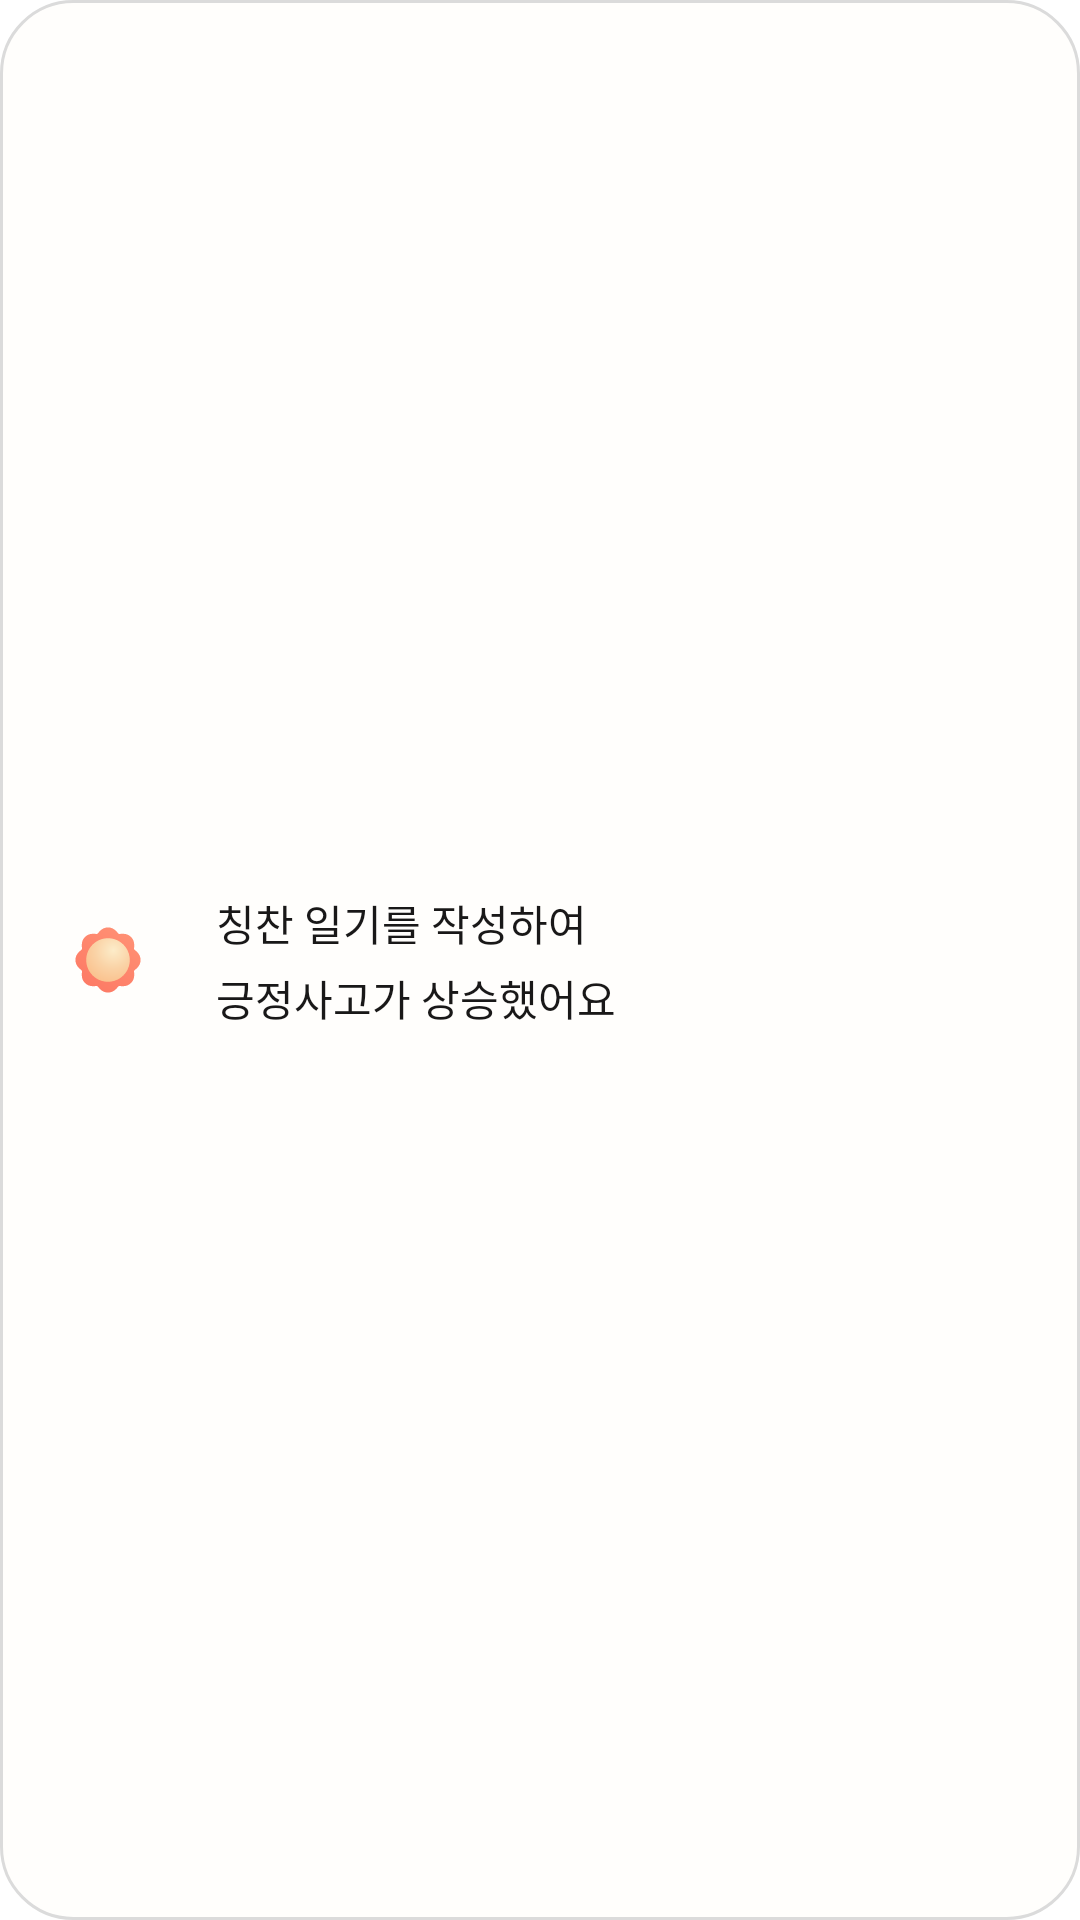

Screen size 1080*1920. Icon name, then its box in pixels as region(x1, y1, x2, y2):
radar sun: region(75, 927, 141, 993)
